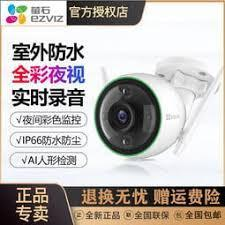maru: (99, 66, 195, 160)
